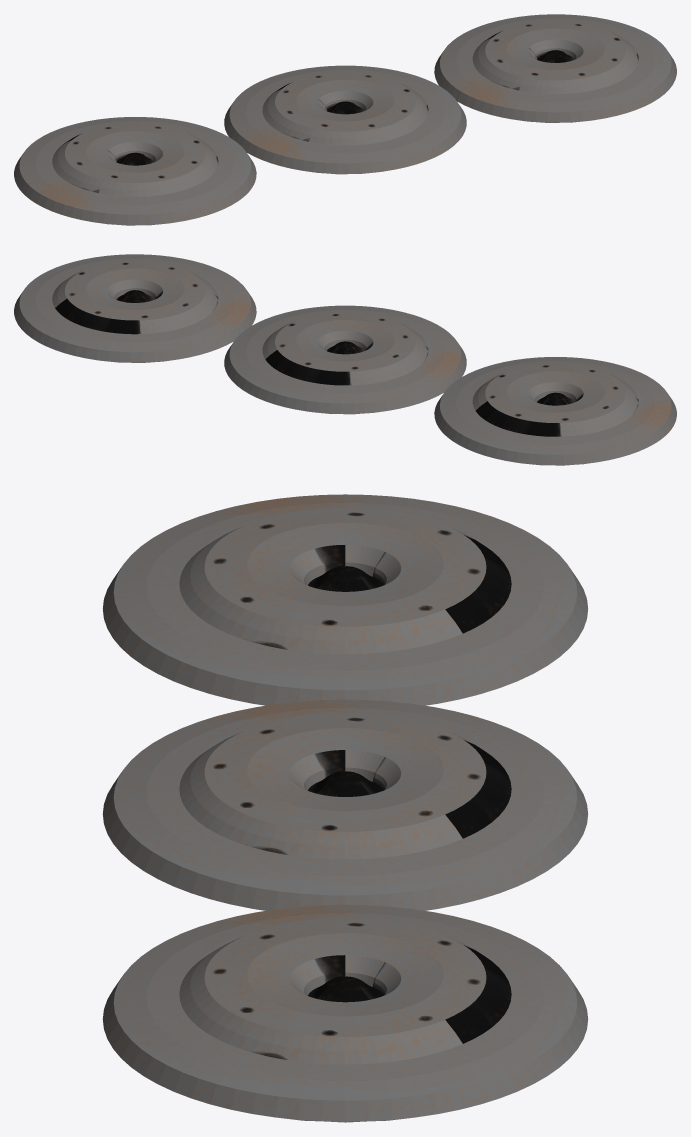
The model's file is DartTrap3.fbx.
The picture shows the model from 3 angles, top to bottom: view 1: azimuth 30°, elevation 25°; view 2: azimuth 150°, elevation 25°; view 3: azimuth 270°, elevation 25°; orthographic projection. The views are drawn at different scales.
Parts seen in each view (by area): view 1: Cylinder; view 2: Cylinder; view 3: Cylinder.
Boxes of the visible parts, x1=… form: Cylinder: x1=14, y1=14, x2=676, y2=225; Cylinder: x1=14, y1=254, x2=676, y2=465; Cylinder: x1=102, y1=494, x2=588, y2=1122.
Size of the model in its own units: 0.2986 by 0.0151 by 0.0995.
